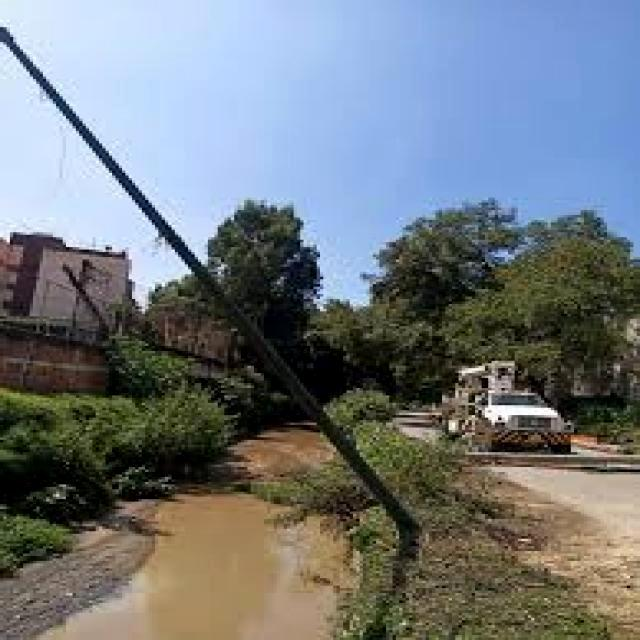Broken Pole: (0, 24, 428, 615)
